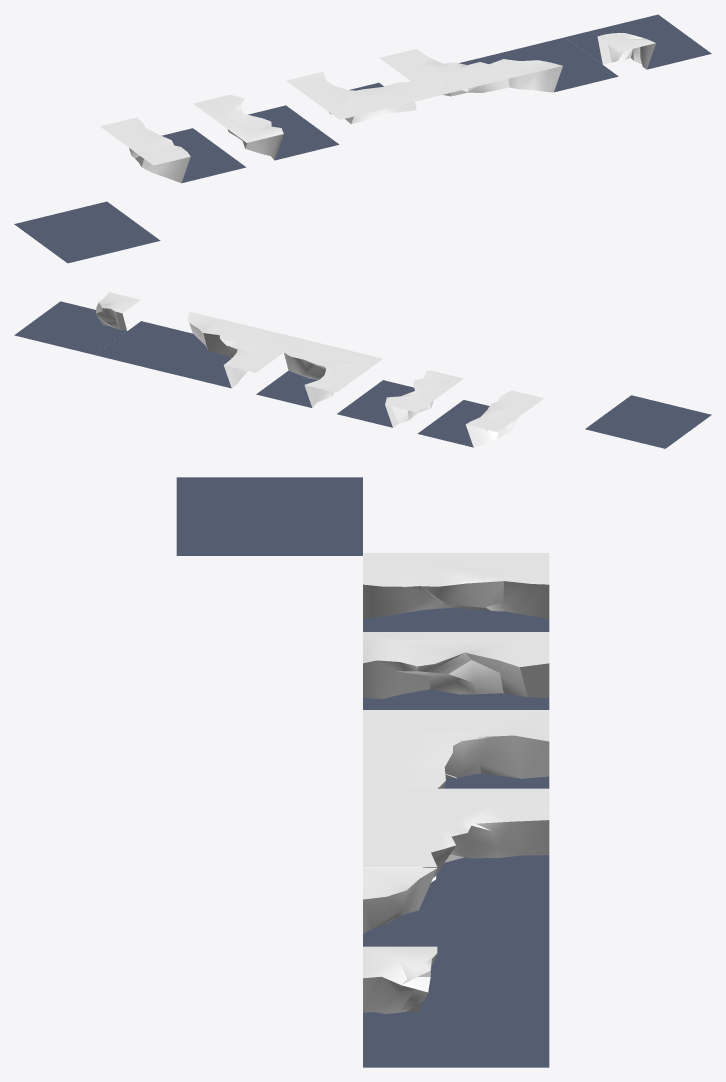
Rendered from cave_water.fbx.
3 renders of one model, top to bottom at view 1: azimuth 30°, elevation 25°; view 2: azimuth 150°, elevation 25°; view 3: azimuth 270°, elevation 25°, orthographic. The views are drawn at different scales.
Visible parts, largest first — view 1: Water, water_edge1, water_edge2, water_convex2, water_convex1, water_concave2, water_concave1; view 2: water_concave1, water_concave2, water_convex2, water_convex1, Water, water_edge1, water_edge2; view 3: water_concave2, water_convex2, Water, water_concave1, water_edge1, water_convex1, water_edge2.
Boxes of the visible parts, left/top/right/bottom form: Water: left=14, top=201, right=160, bottom=263; water_edge1: left=100, top=117, right=246, bottom=183; water_edge2: left=193, top=94, right=338, bottom=160; water_convex2: left=565, top=14, right=711, bottom=69; water_convex1: left=473, top=37, right=618, bottom=92; water_concave2: left=379, top=49, right=525, bottom=96; water_concave1: left=286, top=71, right=432, bottom=124; water_concave1: left=256, top=339, right=382, bottom=407; water_concave2: left=175, top=319, right=301, bottom=388; water_convex2: left=14, top=292, right=140, bottom=354; water_convex1: left=95, top=312, right=220, bottom=374; Water: left=585, top=395, right=711, bottom=448; water_edge1: left=417, top=390, right=543, bottom=447; water_edge2: left=337, top=370, right=463, bottom=427; water_concave2: left=363, top=788, right=549, bottom=910; water_convex2: left=363, top=946, right=549, bottom=1067; Water: left=176, top=477, right=362, bottom=555; water_concave1: left=363, top=710, right=549, bottom=788; water_edge1: left=363, top=553, right=549, bottom=631; water_convex1: left=363, top=868, right=549, bottom=988; water_edge2: left=363, top=632, right=549, bottom=709.
Bounding box in the file's own units: 1500 × 55.31 × 400.
